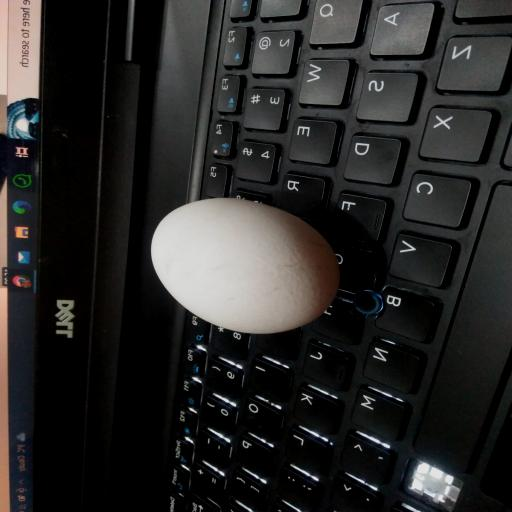telur: (144, 192, 342, 339)
